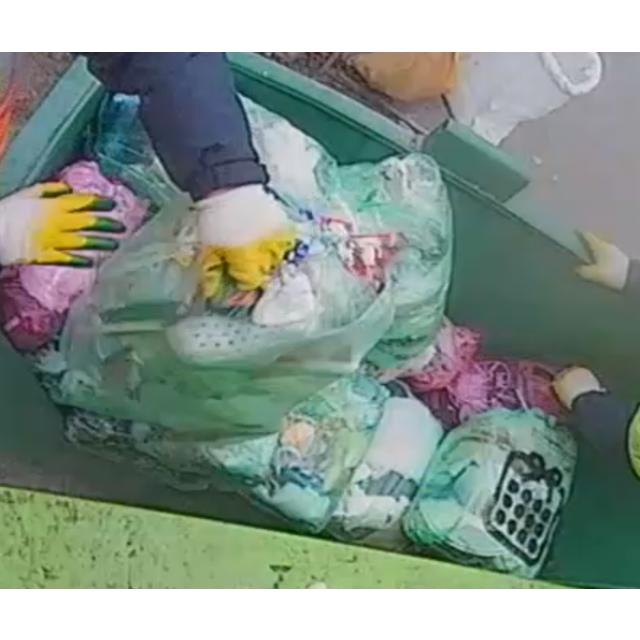general_trashbag: (206, 375, 441, 532), (402, 410, 576, 577), (339, 152, 451, 368)
